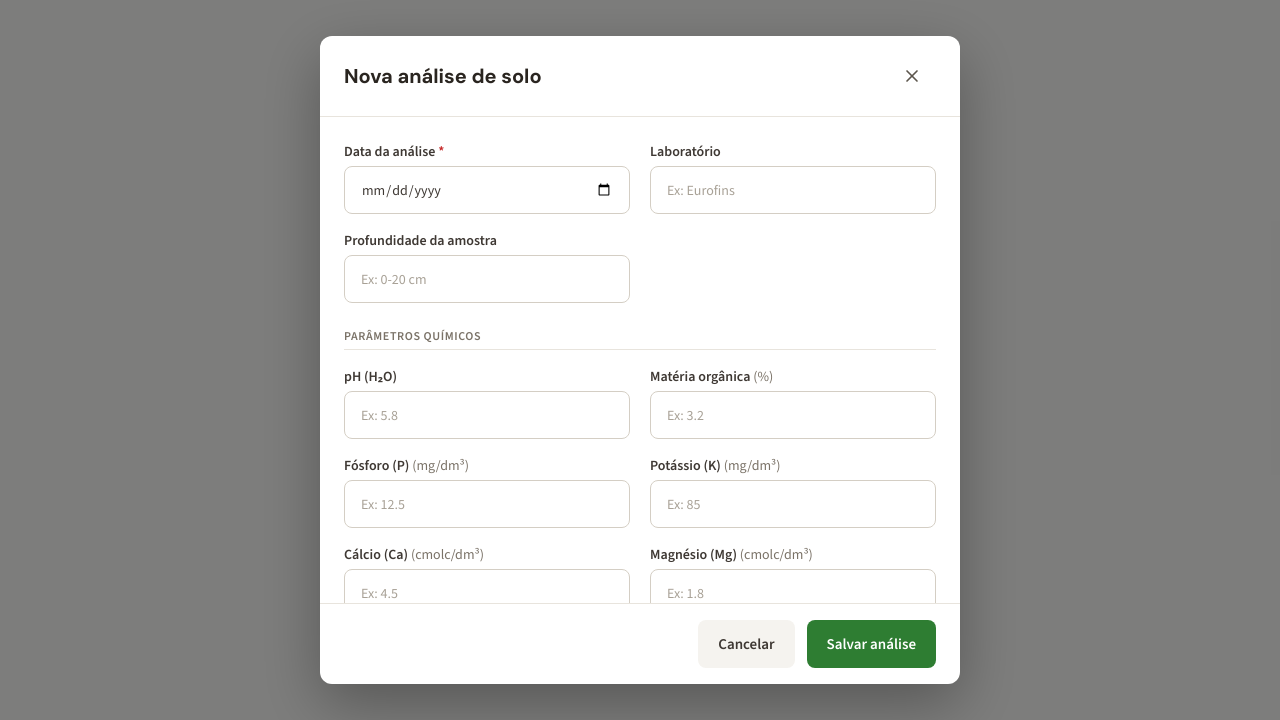
it: AddSoilAnalysisModal › shows validation error for pH out of range
In the number field labelled "pH (H₂O)": (487, 415) [344, 391, 630, 439], type "15"
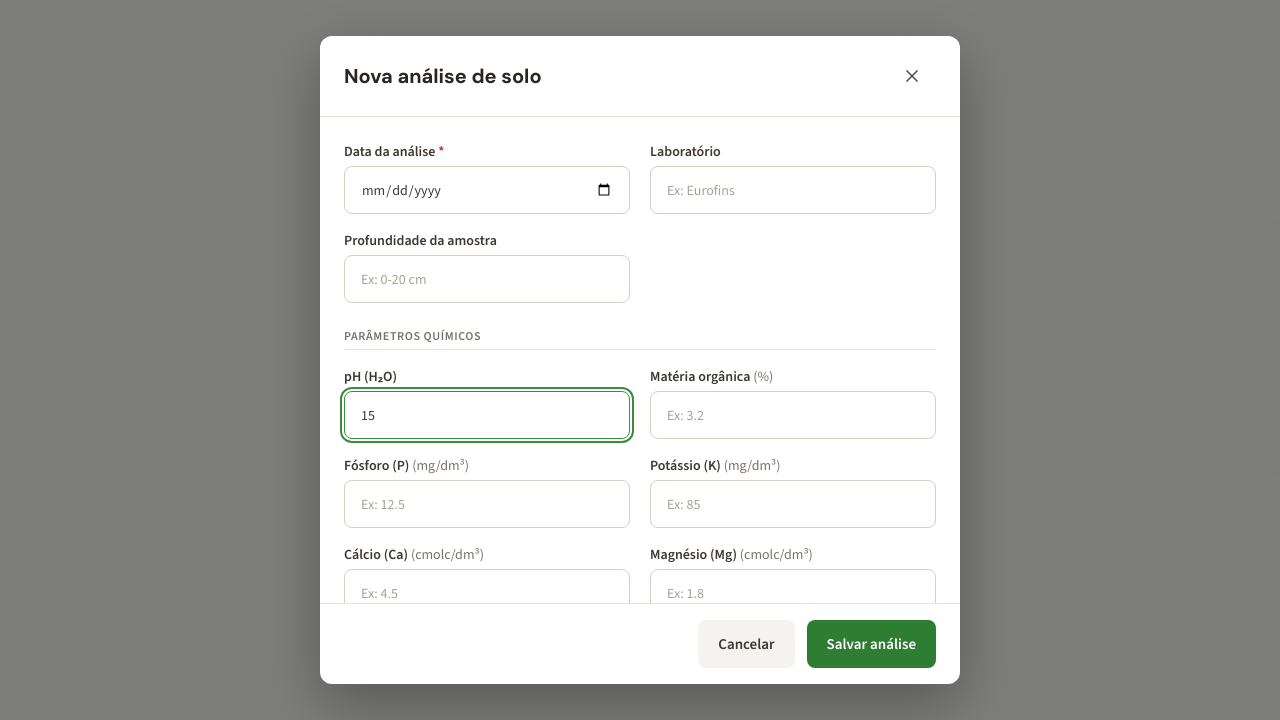
Press Tab
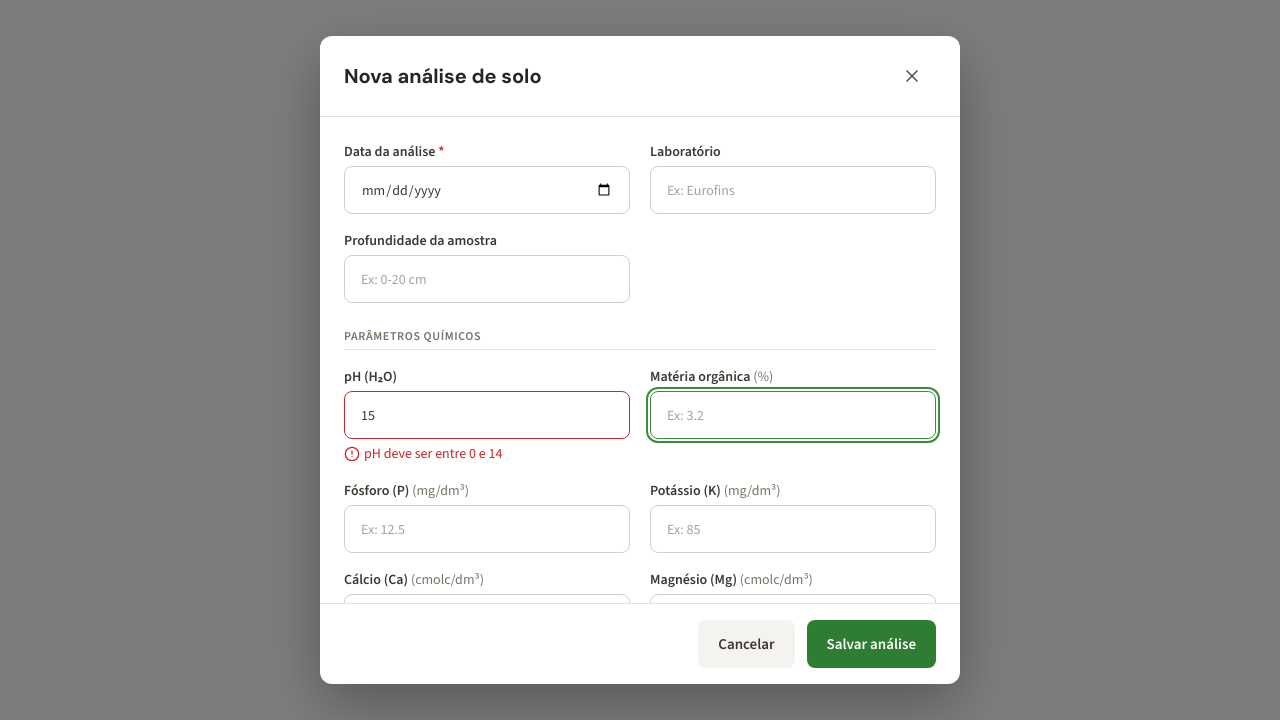
expect the text "pH deve ser entre 0 e 14" is shown: met, box [344, 444, 502, 463]
